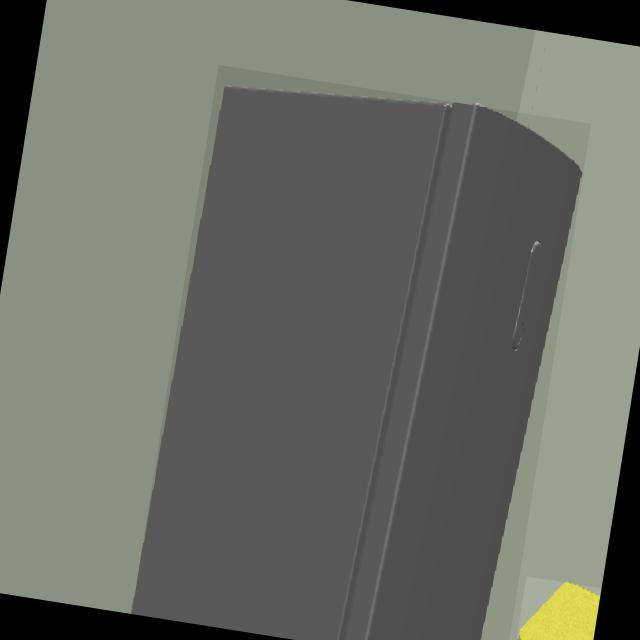countertop: (517, 583, 601, 640)
fridge: (132, 86, 583, 640)
